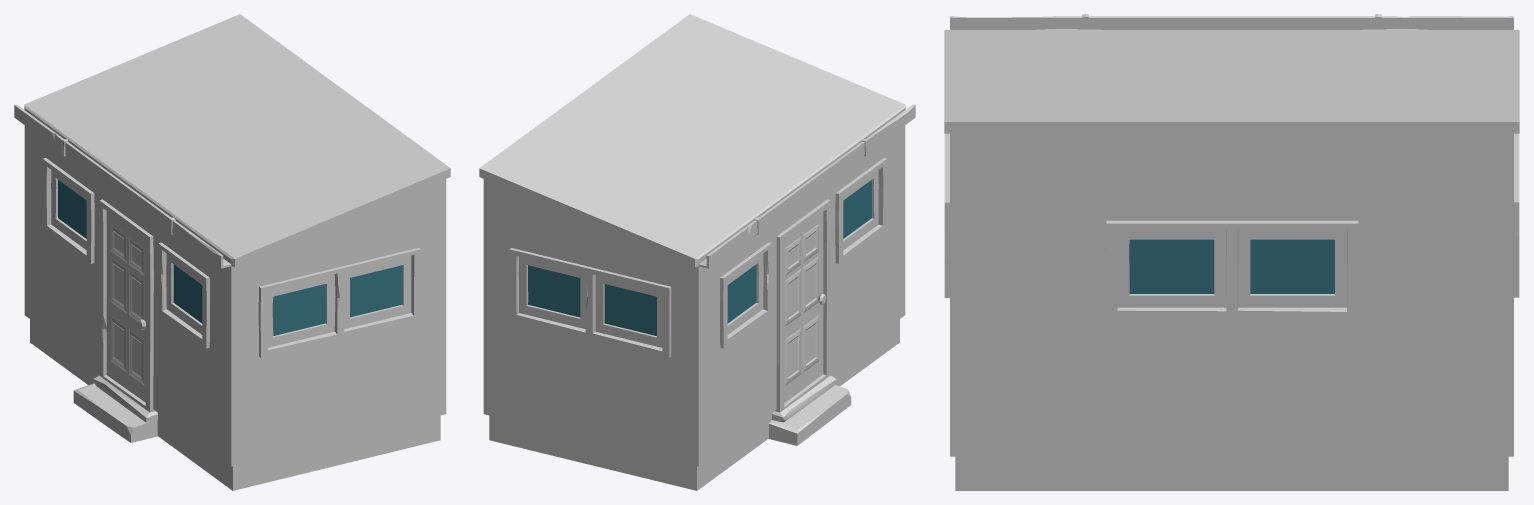
3 views of the same model, side by side, from view 1: azimuth 30°, elevation 25°; view 2: azimuth 150°, elevation 25°; view 3: azimuth 270°, elevation 25° (orthographic). The views are drawn at different scales.
Visible parts, largest first — view 1: SM_Bld_SmallBuilding_01, SM_Bld_SmallBuilding_Door_01, SM_Bld_SmallBuilding_01_Glass; view 2: SM_Bld_SmallBuilding_01, SM_Bld_SmallBuilding_Door_01, SM_Bld_SmallBuilding_01_Glass; view 3: SM_Bld_SmallBuilding_01, SM_Bld_SmallBuilding_01_Glass.
Part boxes in pixels (<box>): SM_Bld_SmallBuilding_01: <box>14,14,450,490</box>; SM_Bld_SmallBuilding_Door_01: <box>106,211,146,402</box>; SM_Bld_SmallBuilding_01_Glass: <box>58,180,402,335</box>; SM_Bld_SmallBuilding_01: <box>479,14,915,490</box>; SM_Bld_SmallBuilding_Door_01: <box>783,212,826,402</box>; SM_Bld_SmallBuilding_01_Glass: <box>528,180,871,335</box>; SM_Bld_SmallBuilding_01: <box>944,14,1519,490</box>; SM_Bld_SmallBuilding_01_Glass: <box>1129,239,1334,293</box>.
Bounding box in the file's own units: 3.41 × 3.66 × 5.1.
